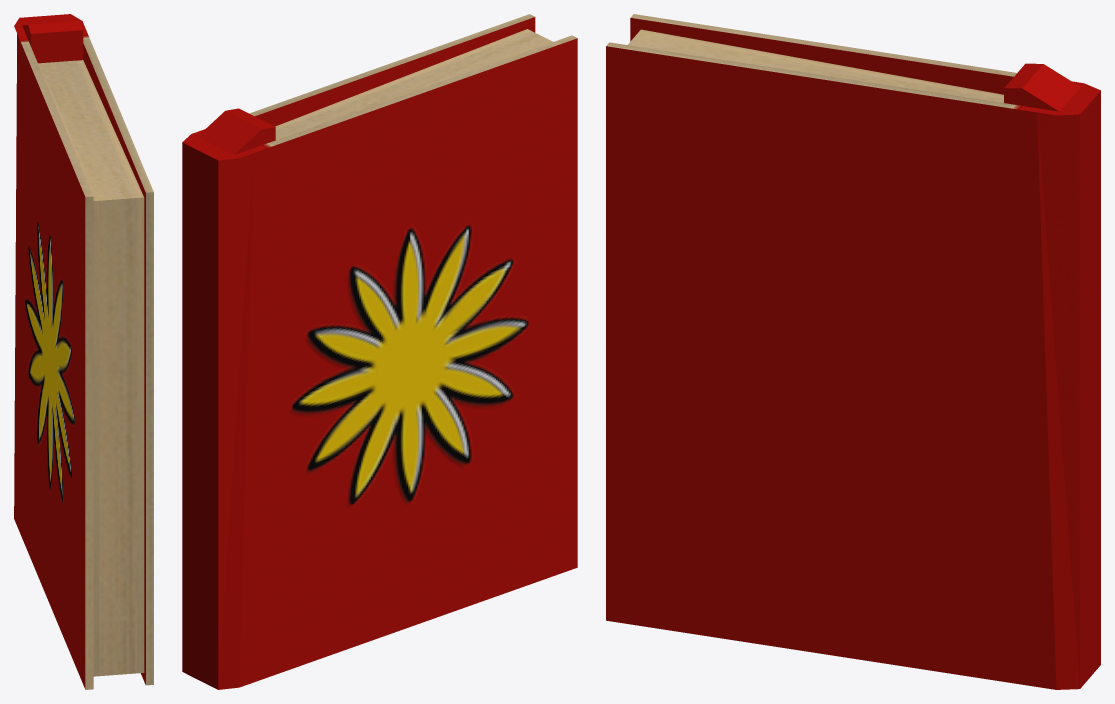
Rendered from Book_1.fbx.
3 renders of one model, left to right at view 1: azimuth 30°, elevation 25°; view 2: azimuth 150°, elevation 25°; view 3: azimuth 270°, elevation 25°, orthographic. The views are drawn at different scales.
Visible parts, largest first — view 1: BOOK_1; view 2: BOOK_1; view 3: BOOK_1.
Boxes of the visible parts, <box> form: BOOK_1: <box>14,14,153,689</box>; BOOK_1: <box>182,14,577,689</box>; BOOK_1: <box>606,14,1100,689</box>.
Bounding box in the file's own units: 0.8277 × 2.25 × 1.71.
Materials: 1 (1 with a texture image).
